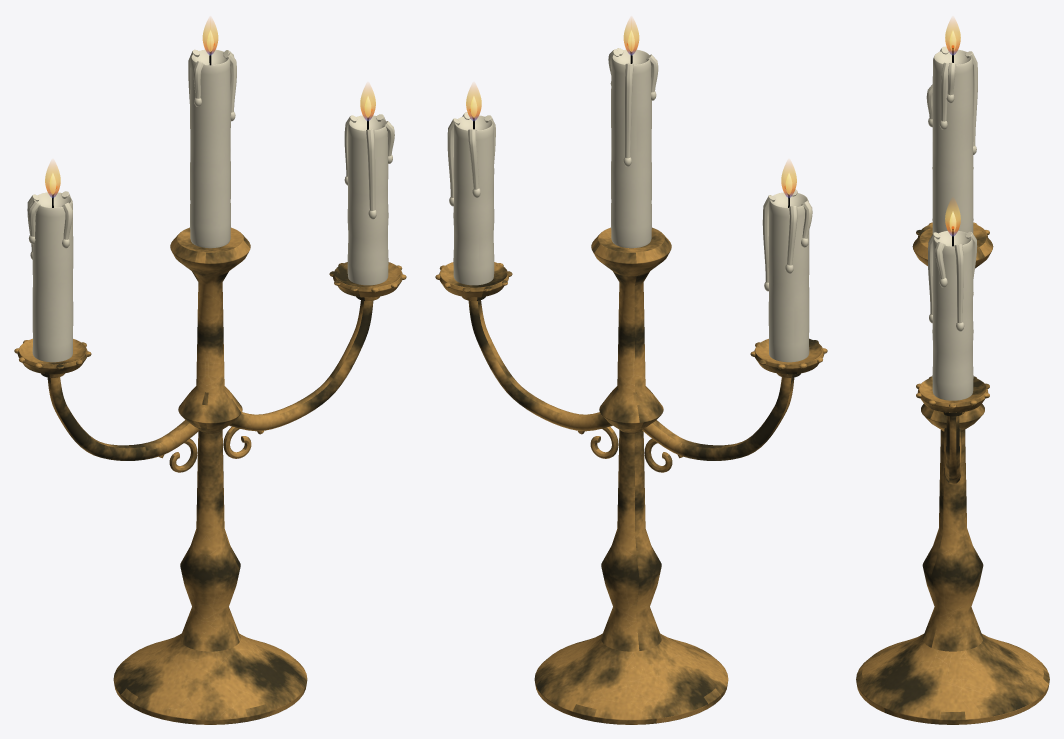
Rendered from Candelabra_Lit.gltf.
3 views of the same model, side by side, from view 1: azimuth 30°, elevation 25°; view 2: azimuth 150°, elevation 25°; view 3: azimuth 270°, elevation 25° (orthographic).
Parts seen in each view (by area): view 1: Candelabra_Lit_Body, Candelabra_Lit_Flame; view 2: Candelabra_Lit_Body, Candelabra_Lit_Flame; view 3: Candelabra_Lit_Body, Candelabra_Lit_Flame.
Part boxes in pixels (box(x1,y1,x2,y2)): Candelabra_Lit_Body: box(14, 43, 406, 724); Candelabra_Lit_Flame: box(45, 17, 375, 197); Candelabra_Lit_Body: box(435, 43, 827, 724); Candelabra_Lit_Flame: box(466, 17, 796, 197); Candelabra_Lit_Body: box(856, 45, 1049, 724); Candelabra_Lit_Flame: box(945, 18, 960, 236).
Bounding box in the file's own units: 0.4367 × 0.732 × 0.1918.
6 materials, 3 textured.
